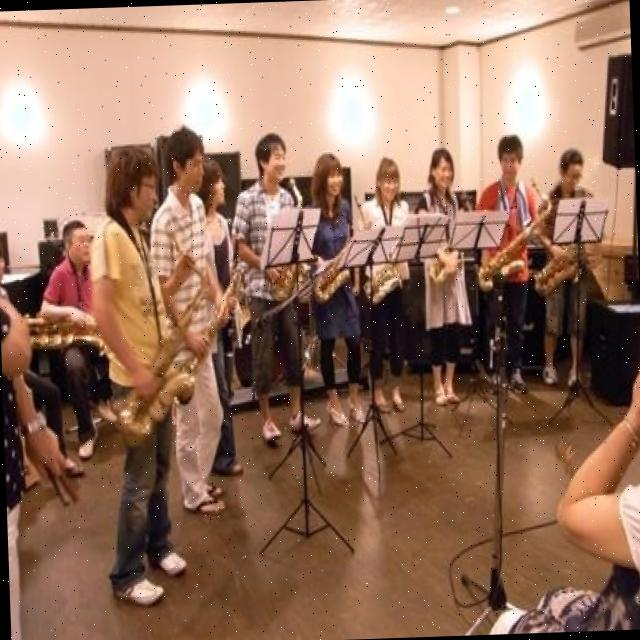saxophone: (110, 233, 222, 453), (472, 175, 558, 292), (259, 176, 310, 303), (532, 228, 592, 298), (308, 248, 361, 300), (358, 254, 406, 300), (428, 247, 464, 286)
